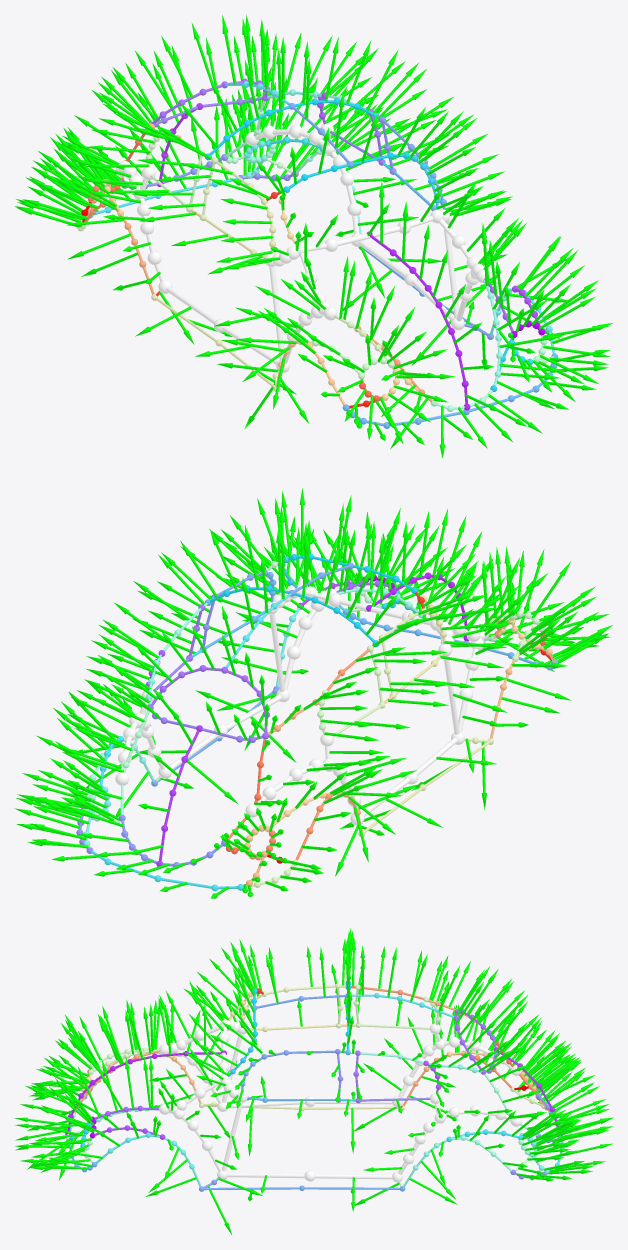
Rendered from flowsurf_beetle.gltf.
3 views of the same model, one above another, from view 1: azimuth 30°, elevation 25°; view 2: azimuth 150°, elevation 25°; view 3: azimuth 270°, elevation 25° (orthographic). The views are drawn at different scales.
Bounding box in the file's own units: 0.5557 × 0.48 × 1.07.
